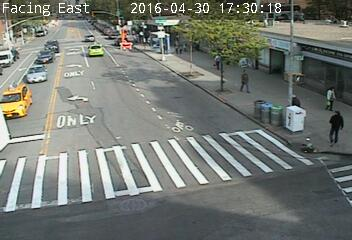neg: (251, 94, 271, 121), (24, 61, 43, 87), (32, 105, 51, 131), (149, 29, 168, 54), (298, 137, 316, 161), (288, 67, 304, 89), (187, 58, 201, 77), (118, 37, 131, 54)
pos: (322, 108, 350, 146), (321, 83, 342, 111), (235, 68, 255, 93), (211, 51, 226, 71)
